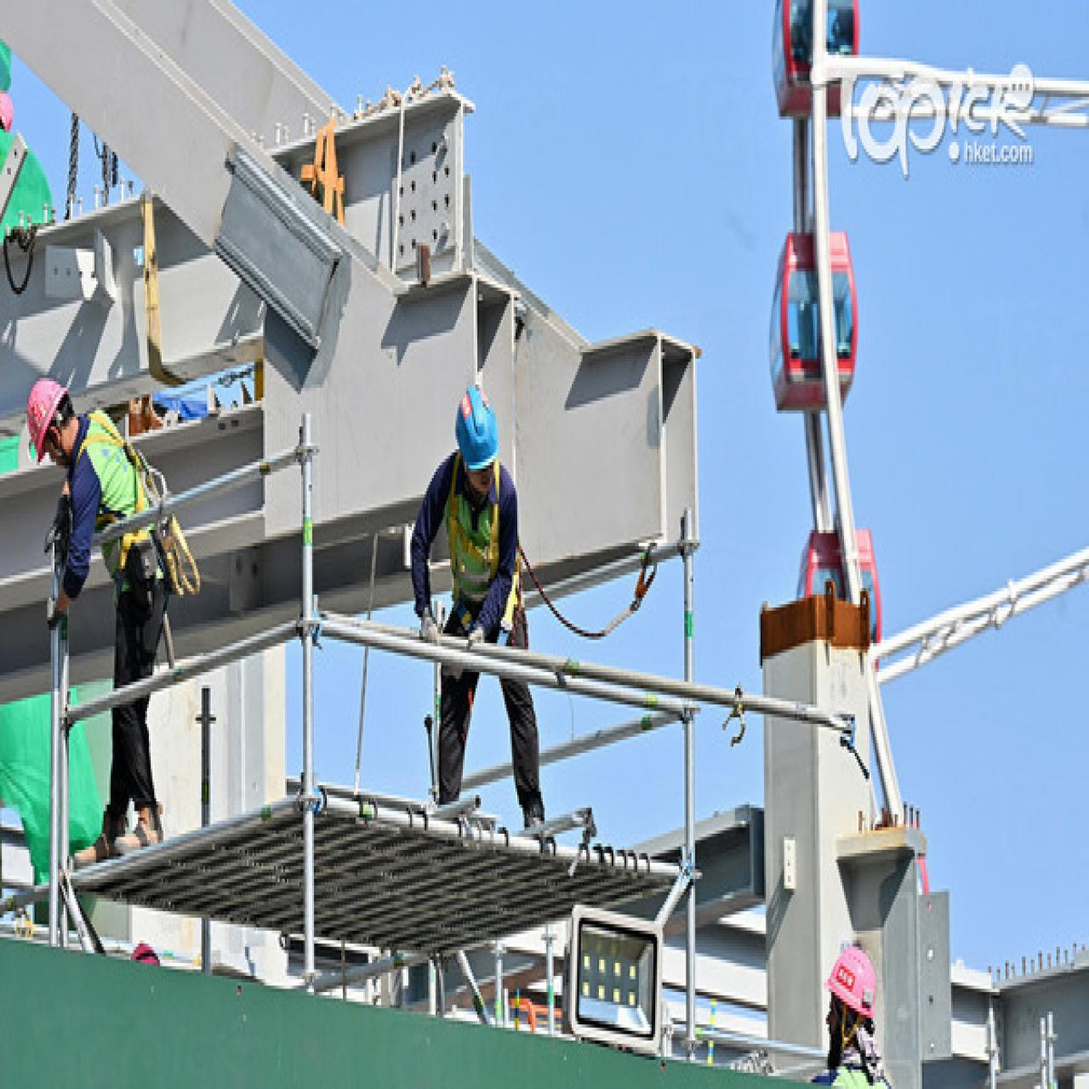NO_Safety_Vest: (61, 398, 177, 614), (418, 453, 531, 634)
Person: (17, 366, 209, 869), (395, 374, 565, 840)
